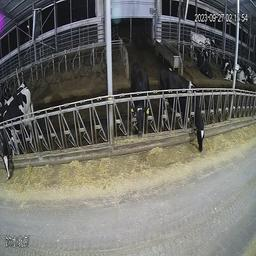cow: (157, 67, 206, 152), (3, 87, 33, 179), (1, 81, 27, 146), (130, 58, 149, 139), (189, 30, 215, 57), (197, 49, 216, 80), (221, 57, 233, 84), (234, 59, 245, 84), (242, 60, 251, 86)
